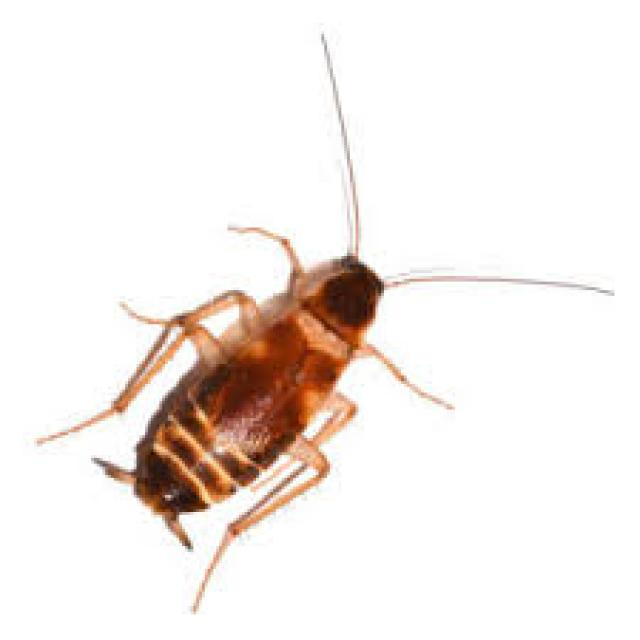Cockroach: (31, 30, 618, 616)
